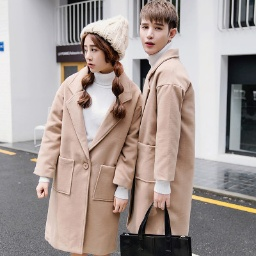face: (79, 29, 127, 81), (138, 1, 182, 56)
